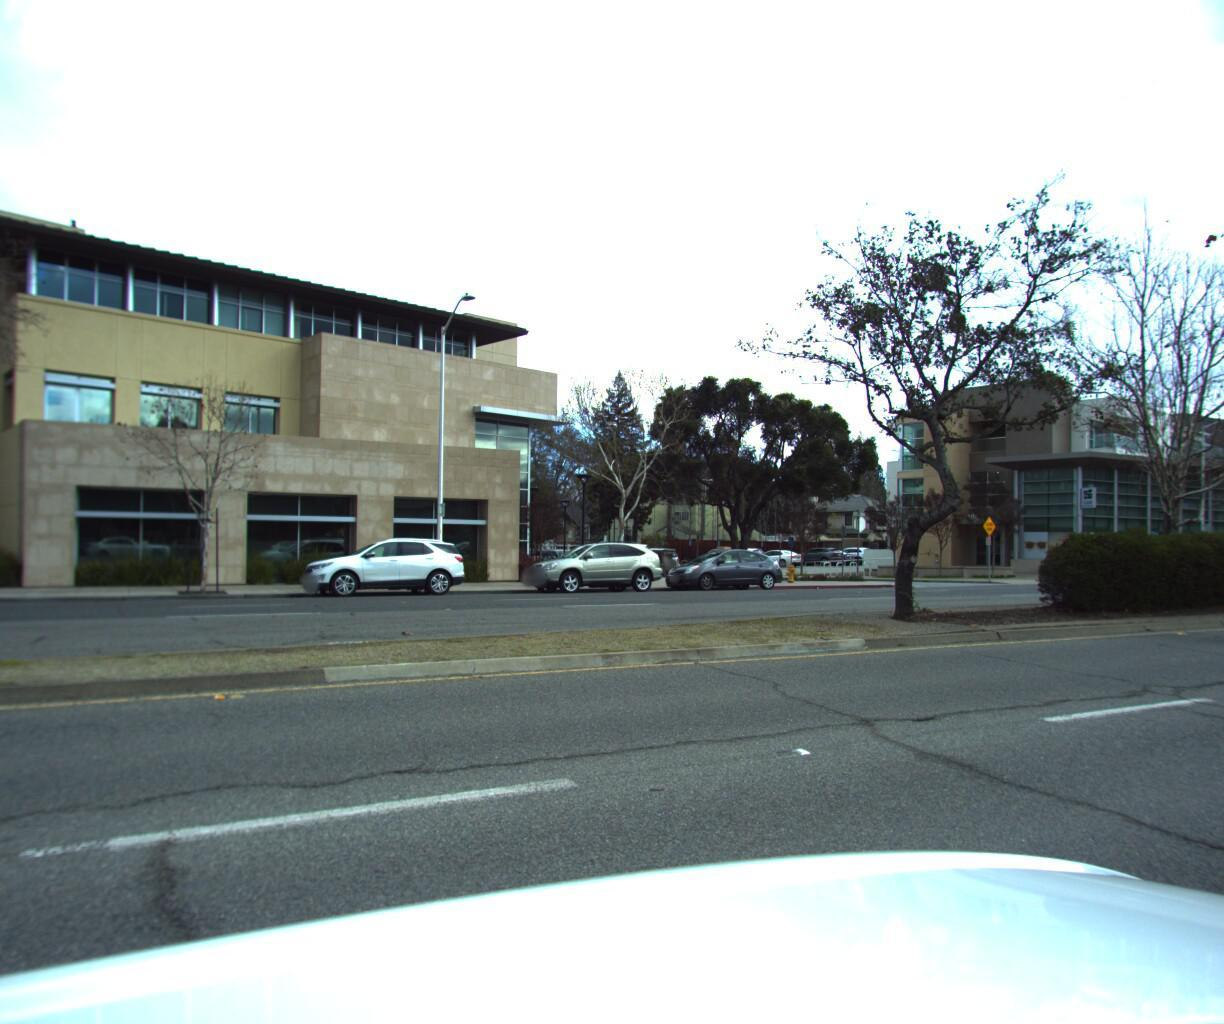car: (294, 534, 471, 602), (515, 537, 667, 595), (655, 545, 785, 593)
